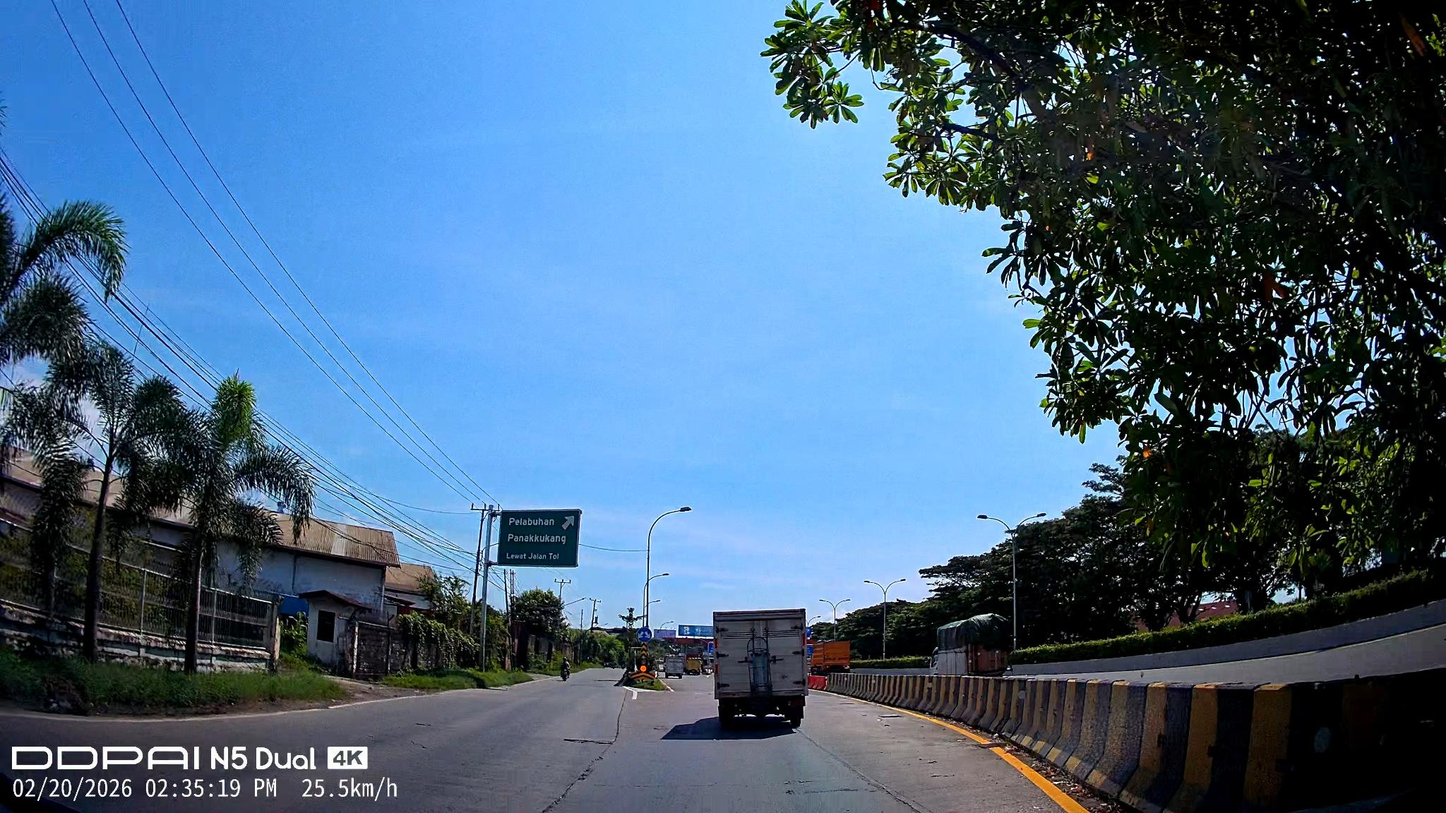rambu_teks: (497, 509, 582, 568)
